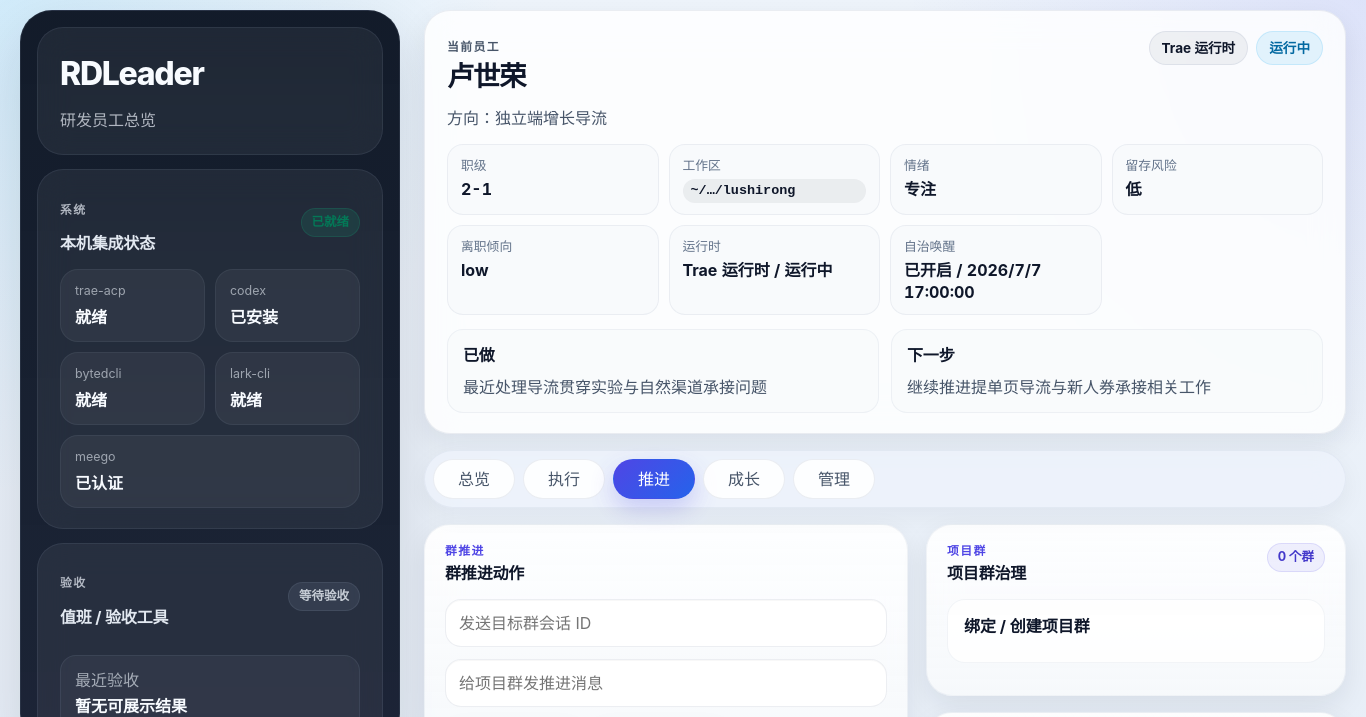
Test: App › lets the leader reject a pending approval request
The image size is (1366, 717).
What coordinates should you click on to do the following:
click the tab "推进"
I would click on:
 (654, 479)
Its box is x1=613 y1=459 x2=695 y2=499.
(page scrolled)
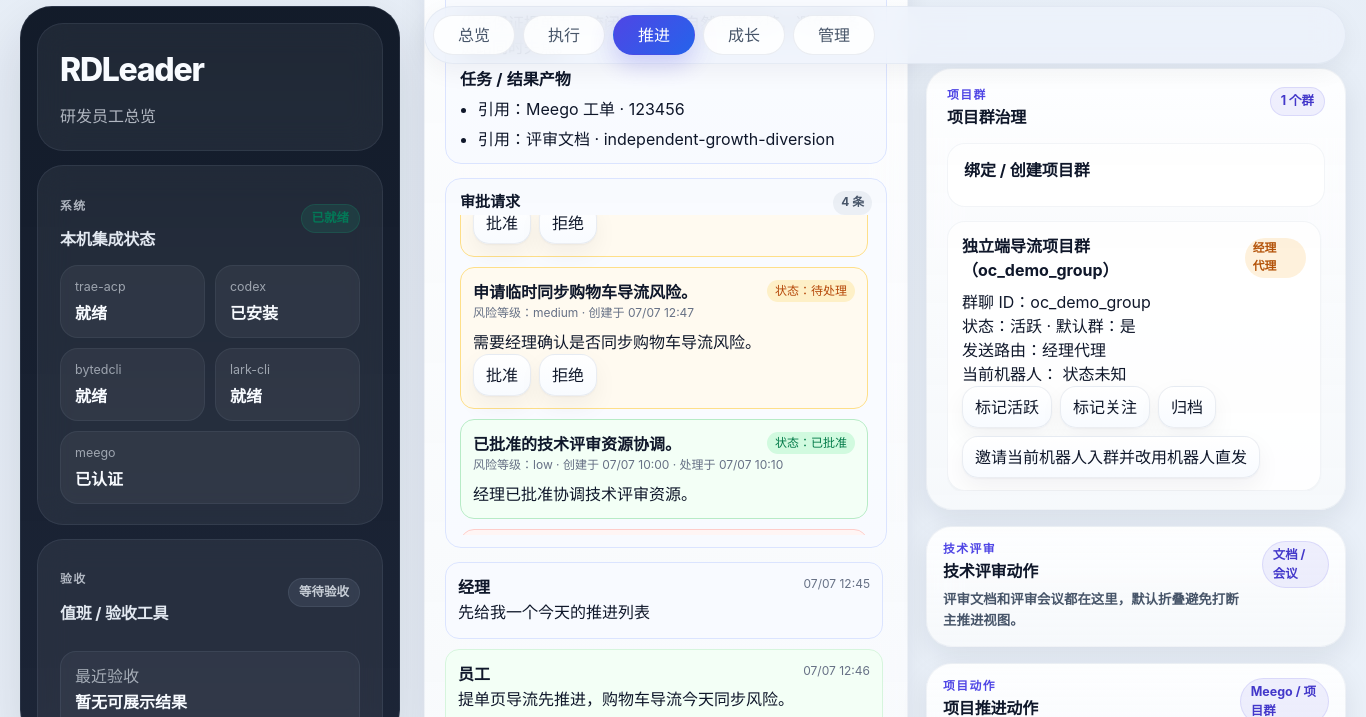
Check: the heading "项目群治理" is shown, box x1=947 y1=105 x2=1026 y2=129
Check: the text "申请临时同步购物车导流风险。" is shown, box x1=473 y1=282 x2=697 y2=302
Check: the text "状态：待处理" is shown, box x1=767 y1=280 x2=855 y2=302
What coordinates should you click on to do the following:
click the button with aria-label "拒绝请求 approval-request-2"
I would click on:
 (568, 375)
Its box is x1=539 y1=354 x2=597 y2=396.
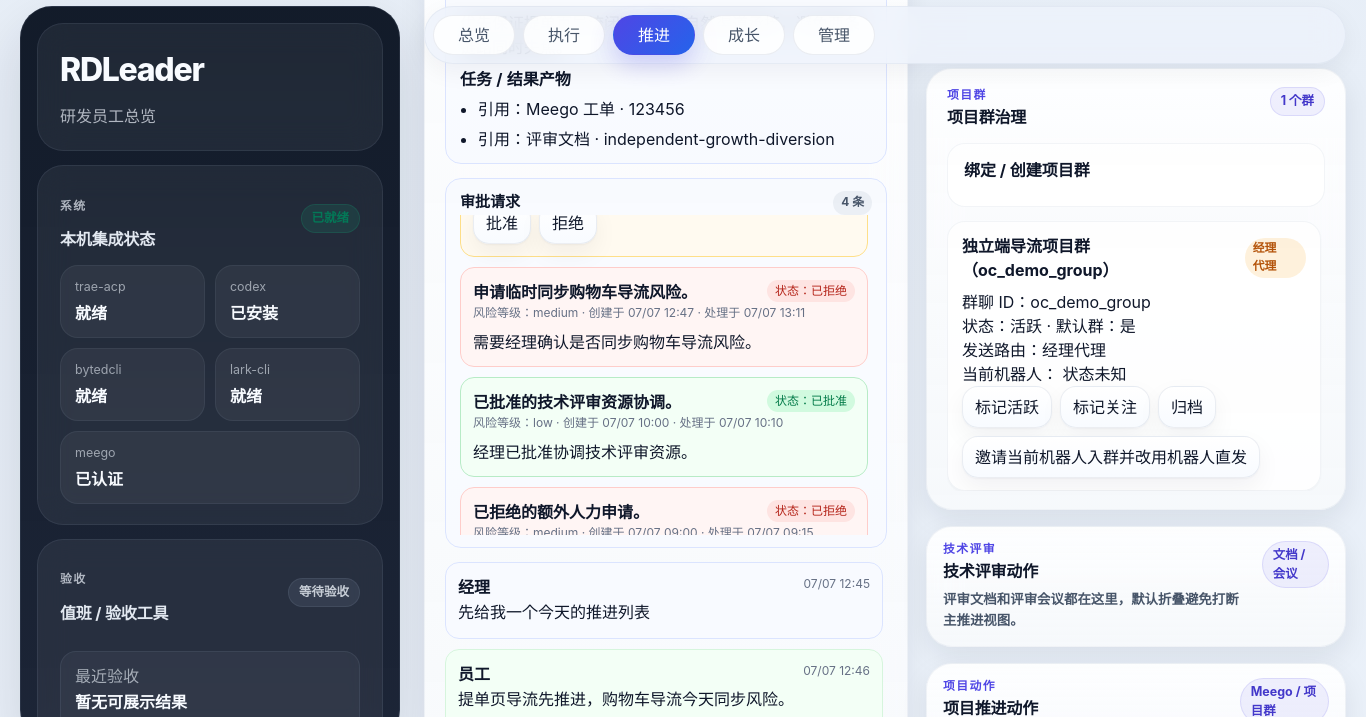
Check: the text "状态：已拒绝" next to "申请临时同步购物车导流风险。" is shown, box x1=767 y1=280 x2=855 y2=302
